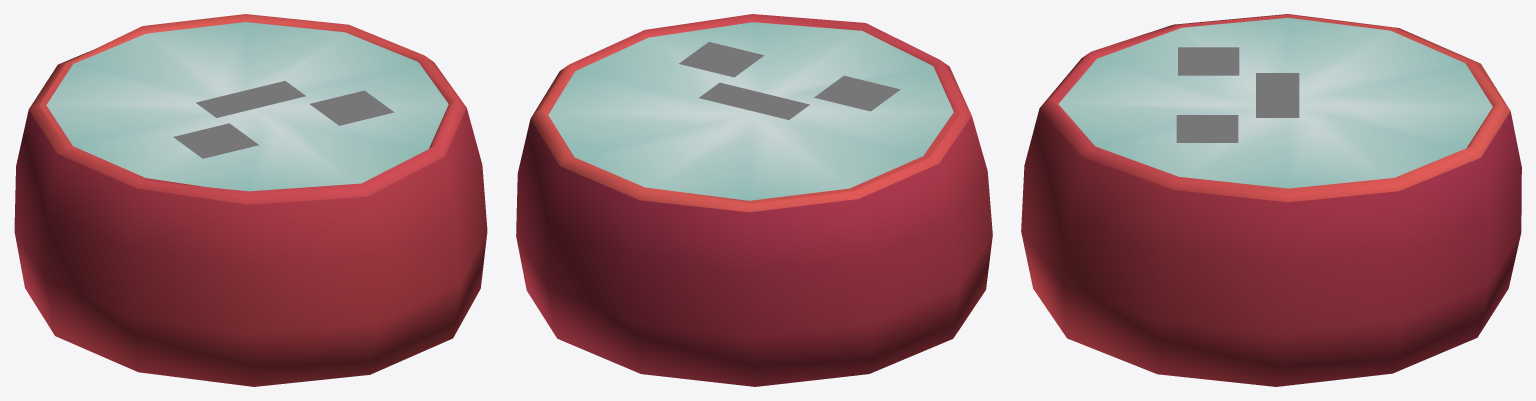
The model's file is radish_slice_smile.fbx.
3 renders of one model, left to right at view 1: azimuth 30°, elevation 25°; view 2: azimuth 150°, elevation 25°; view 3: azimuth 270°, elevation 25°, orthographic. The views are drawn at different scales.
Visible parts, largest first — view 1: radish_slice_smile; view 2: radish_slice_smile; view 3: radish_slice_smile.
Part boxes in pixels (box(x1,y1,x2,y2)): radish_slice_smile: box(14, 14, 487, 386); radish_slice_smile: box(516, 14, 992, 386); radish_slice_smile: box(1021, 14, 1521, 386).
Size of the model in its own units: 17.48 by 18.14 by 7.71.
Materials: 2 (1 with a texture image).
